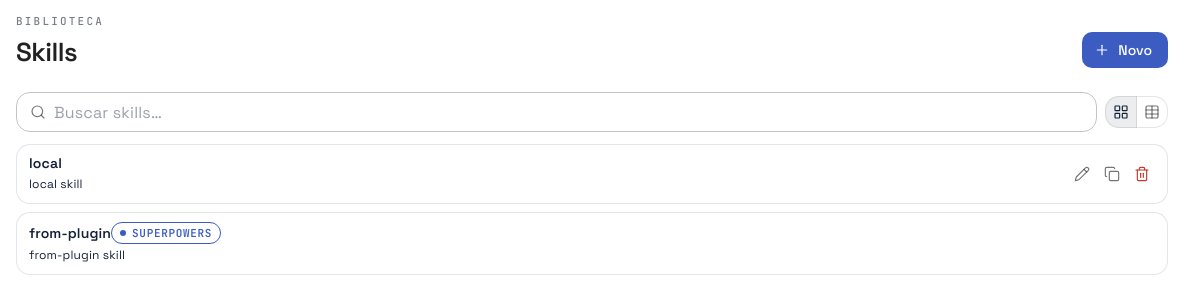
<SkillList> › renders plugin origin as a dedicated column in table view
Click the button with test id "entity-grid-view-table-skill". click: [1152, 112]
box: [1136, 96, 1168, 128]
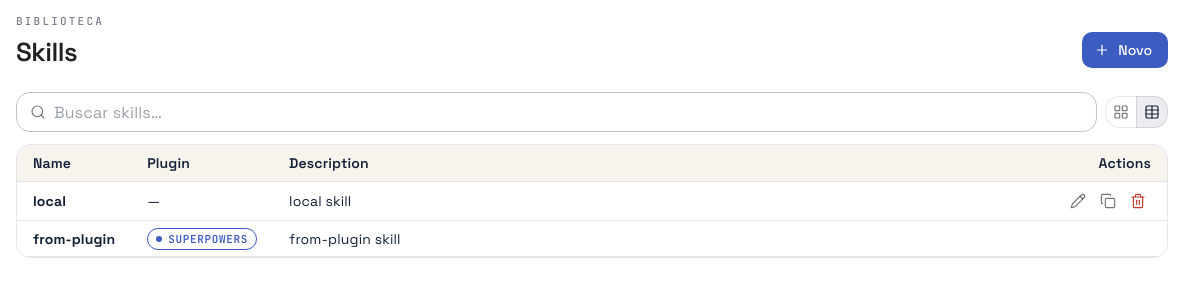
Expected: the element with test id "plugin-origin-badge-superpowers" is shown, [147, 228, 257, 246]
Expected: the column heading "Plugin" is shown, [131, 145, 273, 182]
